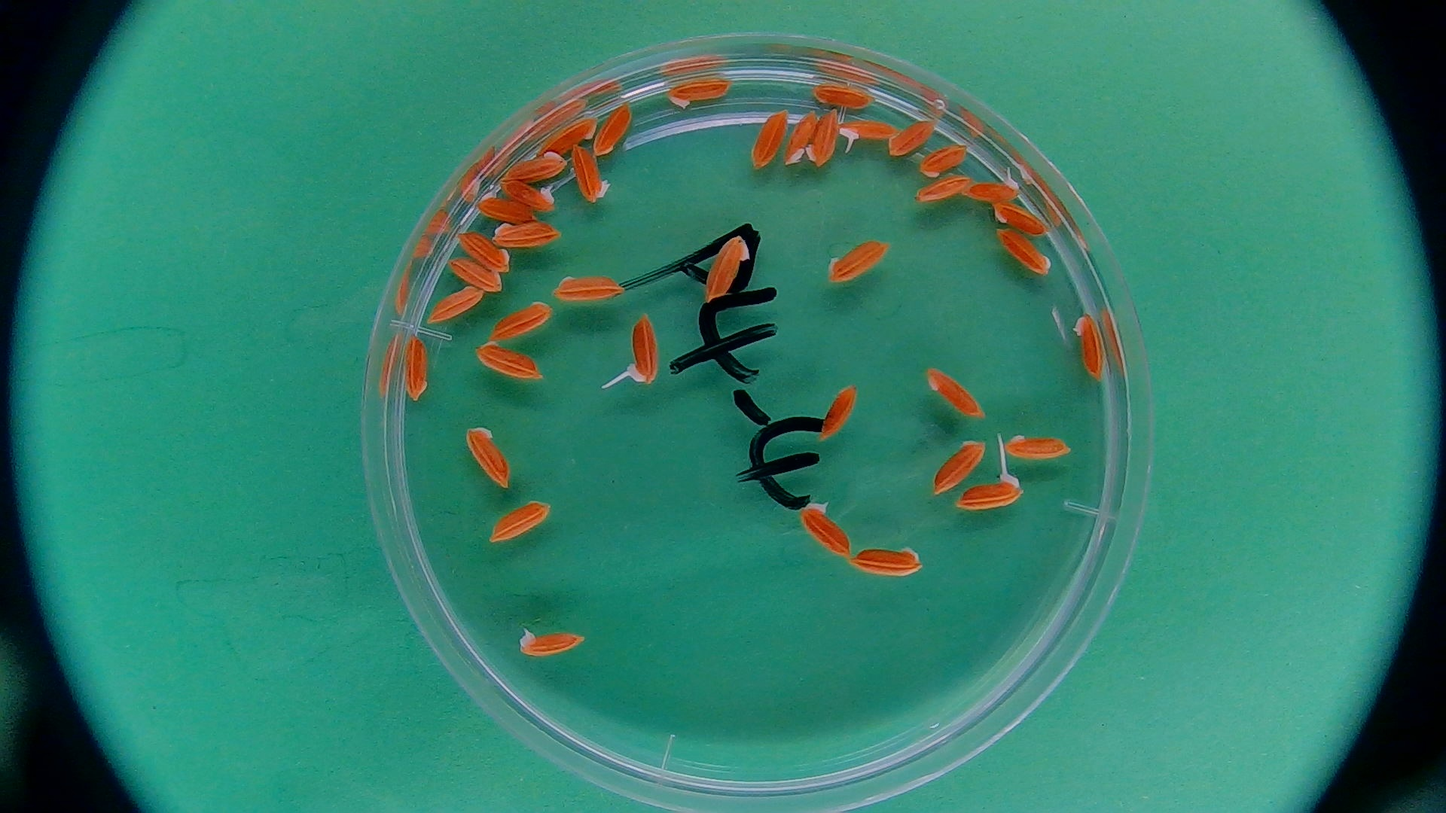no: (459, 422, 513, 493), (921, 363, 988, 419), (699, 233, 751, 304), (930, 438, 988, 501), (471, 336, 544, 386), (561, 140, 612, 210), (845, 541, 925, 585), (992, 225, 1056, 279), (486, 496, 557, 544), (825, 237, 892, 287), (587, 97, 639, 160), (468, 191, 543, 233), (747, 106, 790, 179), (885, 107, 941, 160), (533, 113, 600, 157), (500, 151, 575, 190), (1068, 309, 1109, 380), (984, 199, 1051, 241), (485, 300, 555, 339), (515, 623, 590, 659), (814, 380, 859, 440), (396, 332, 433, 404), (423, 283, 487, 324), (456, 229, 514, 274), (808, 77, 877, 114), (807, 102, 842, 172), (553, 272, 624, 305), (486, 220, 564, 250), (659, 77, 734, 108), (446, 254, 504, 294), (911, 142, 974, 178), (910, 169, 975, 203), (782, 107, 816, 171), (1003, 431, 1075, 461)
yes: (793, 501, 858, 559), (955, 475, 1025, 515), (627, 312, 663, 387), (834, 118, 907, 148), (499, 180, 560, 215), (964, 171, 1023, 206)
